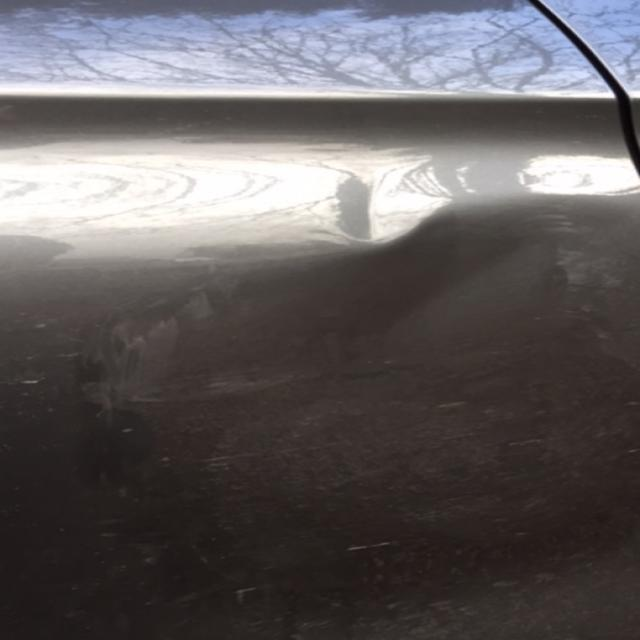dents: (18, 213, 640, 577)
